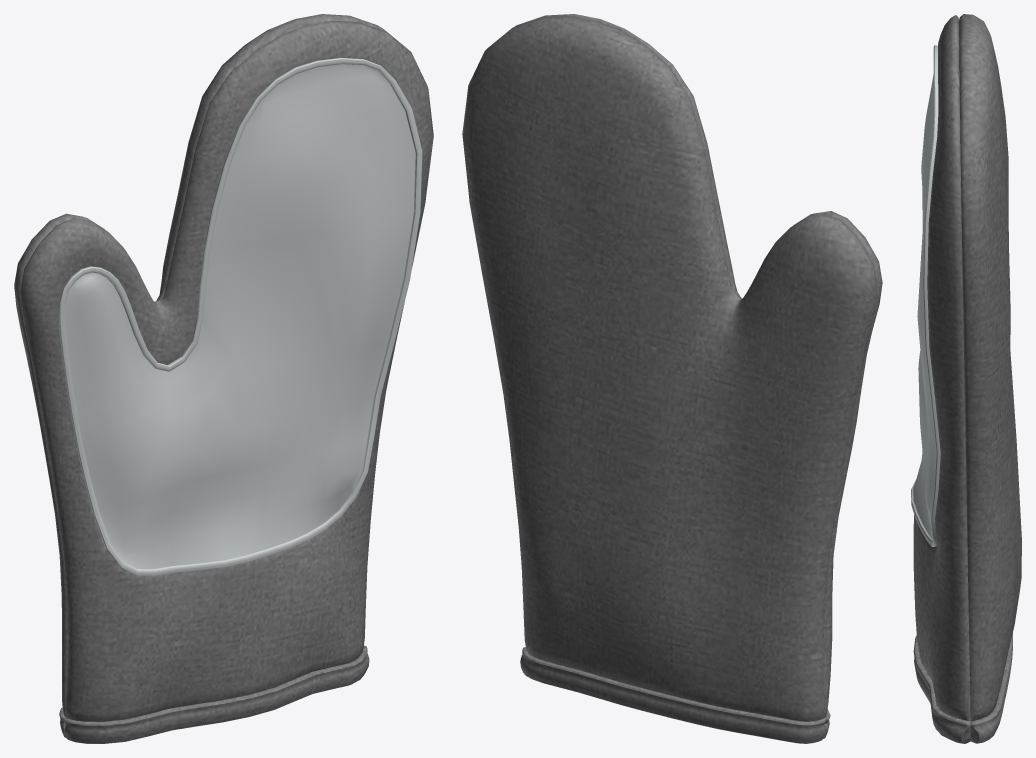
The model's file is oven_mitt.fbx.
3 renders of one model, left to right at view 1: azimuth 30°, elevation 25°; view 2: azimuth 150°, elevation 25°; view 3: azimuth 270°, elevation 25°, orthographic. The views are drawn at different scales.
Parts seen in each view (by area): view 1: OvenMittSkin, OvenMittCloth; view 2: OvenMittCloth; view 3: OvenMittCloth, OvenMittSkin.
Boxes of the visible parts, left/top/right/bottom form: OvenMittSkin: left=58, top=57, right=422, bottom=576; OvenMittCloth: left=14, top=14, right=433, bottom=743; OvenMittCloth: left=462, top=14, right=882, bottom=743; OvenMittCloth: left=913, top=14, right=1021, bottom=743; OvenMittSkin: left=911, top=45, right=940, bottom=546.
Size of what is drawn, in the model's own units: 29.13 by 6.56 by 44.86.
